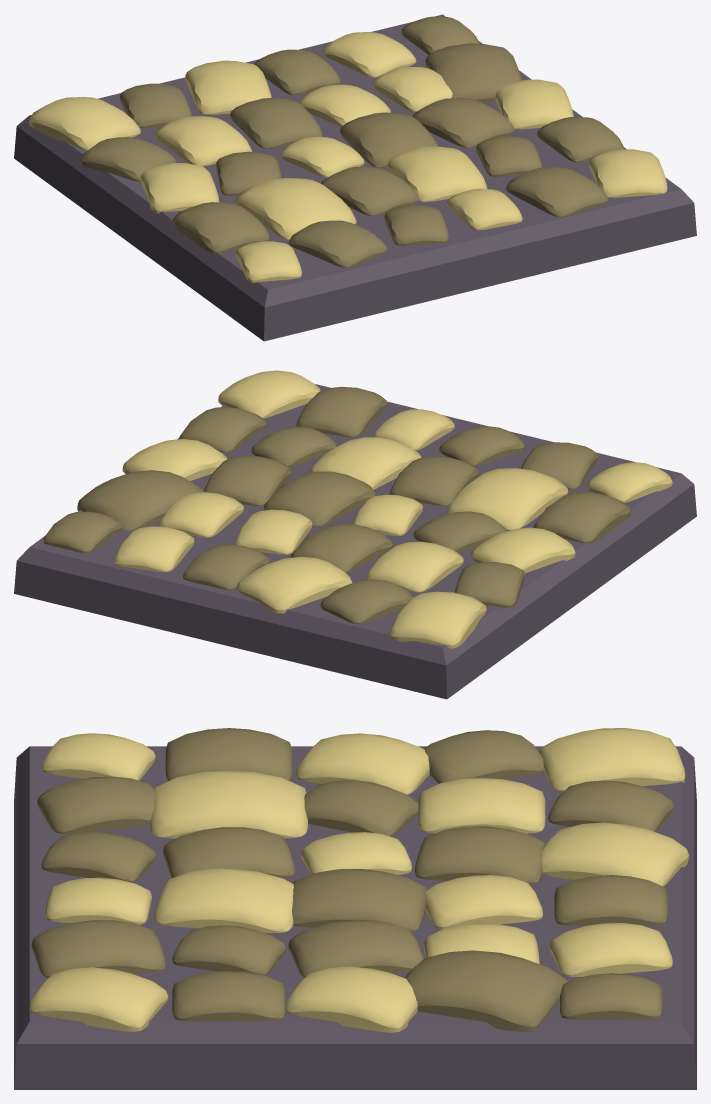
The model's file is Platform.fbx.
3 views of the same model, one above another, from view 1: azimuth 30°, elevation 25°; view 2: azimuth 150°, elevation 25°; view 3: azimuth 270°, elevation 25° (orthographic). The views are drawn at different scales.
Visible parts, largest first — view 1: Cube; view 2: Cube; view 3: Cube.
Part boxes in pixels (x1,y1,x2,y2): Cube: (14,14,696,341); Cube: (14,370,696,699); Cube: (14,728,696,1089).
Bounding box in the file's own units: 100 × 14.92 × 100.
